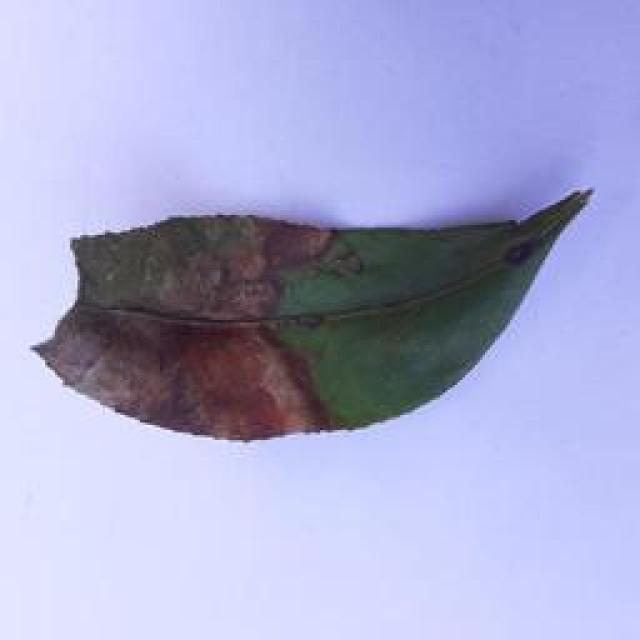Brown Blight: (39, 182, 598, 451)
